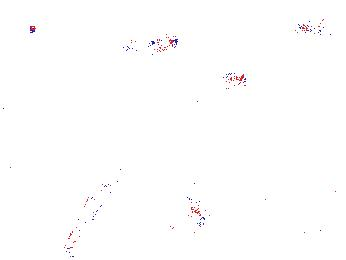X-ray fish: (170, 197, 206, 225)
glassfish: (176, 133, 273, 195), (64, 163, 126, 250)
red belly glassfish: (125, 33, 182, 54), (207, 70, 248, 88)
redtail glassfish: (289, 15, 346, 39)
